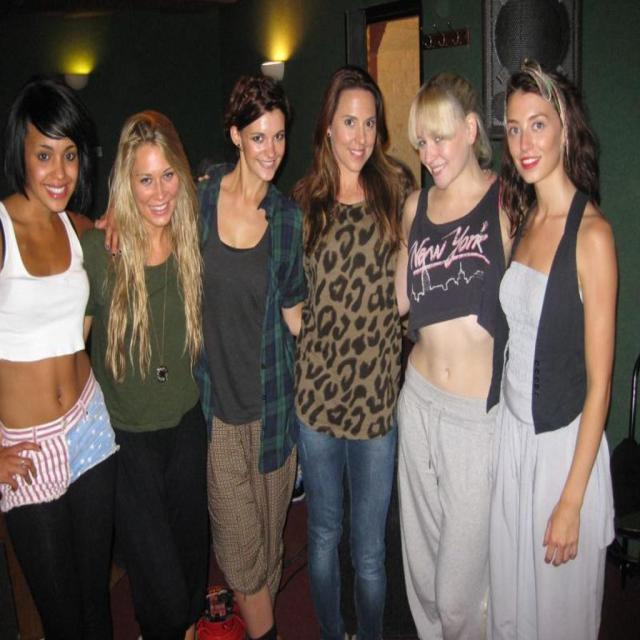Face: (127, 130, 206, 239), (501, 85, 565, 201), (18, 106, 79, 224), (321, 79, 381, 177), (414, 97, 454, 194), (247, 108, 292, 187)
